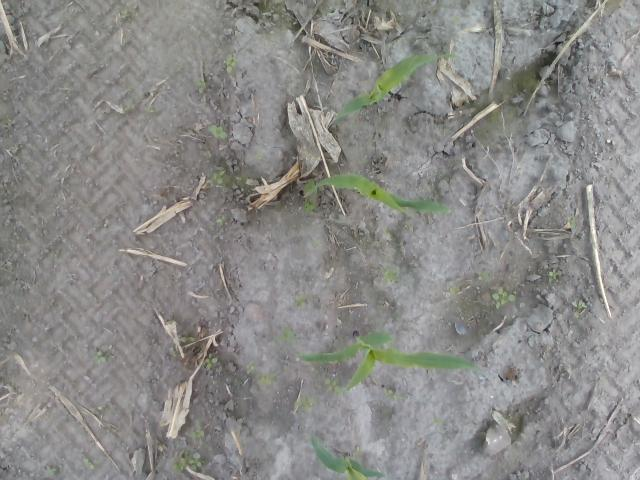Maize: (294, 332, 486, 393), (334, 52, 464, 122), (302, 174, 454, 217), (310, 437, 388, 480)
Weeds: (172, 450, 202, 476), (491, 288, 516, 310), (294, 393, 316, 412), (207, 170, 226, 188), (255, 371, 278, 384), (210, 124, 230, 138), (222, 54, 236, 74), (572, 300, 588, 317), (275, 330, 293, 345), (383, 268, 400, 282), (204, 353, 218, 370), (322, 379, 338, 393), (291, 295, 306, 308), (95, 348, 108, 363), (186, 429, 205, 439), (388, 388, 402, 400), (43, 468, 59, 478), (82, 457, 96, 468), (548, 268, 558, 282), (478, 272, 492, 282), (196, 77, 204, 94), (180, 336, 197, 344), (448, 285, 459, 296), (169, 347, 178, 359), (246, 362, 254, 371), (120, 11, 128, 20), (254, 152, 263, 160), (217, 218, 224, 226)
